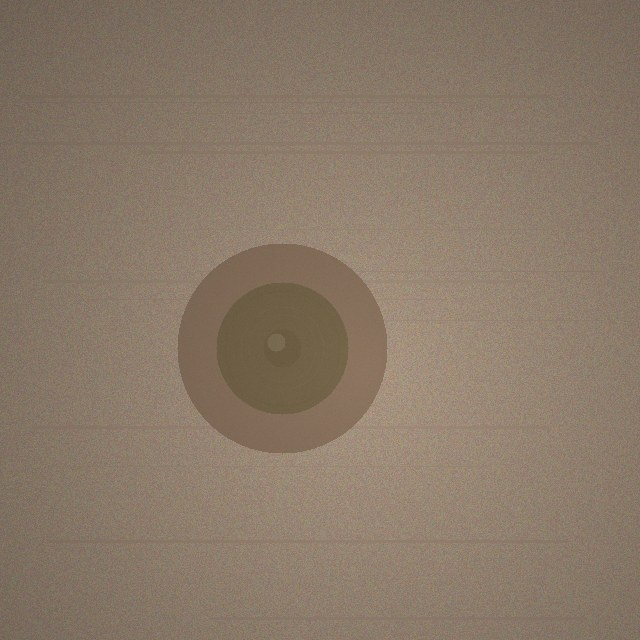good: (177, 243, 387, 453)
